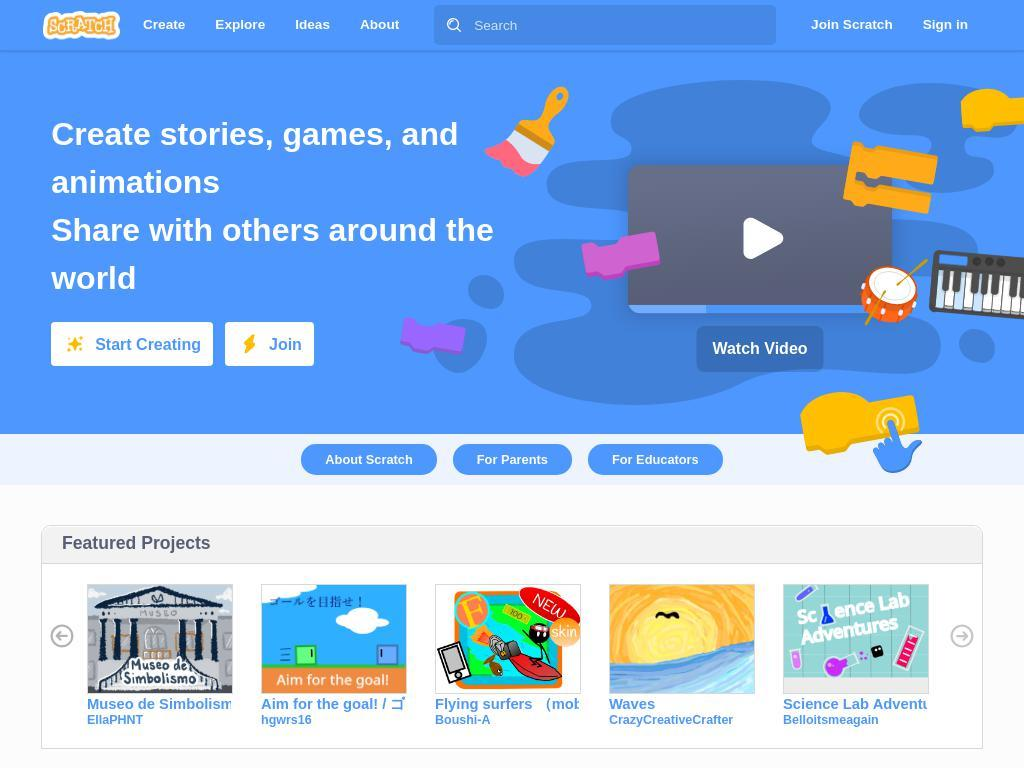button: (87, 584, 231, 694), (261, 584, 405, 694), (435, 584, 579, 694), (609, 584, 753, 694), (783, 584, 927, 694), (293, 434, 446, 485), (579, 434, 731, 485), (51, 322, 213, 366), (444, 434, 580, 485), (796, 0, 908, 50), (200, 0, 281, 50), (224, 322, 314, 366), (907, 0, 983, 50), (128, 0, 201, 50), (344, 0, 415, 50), (280, 0, 345, 50), (87, 696, 231, 713), (261, 696, 405, 713), (435, 696, 579, 713), (609, 696, 753, 713), (783, 696, 927, 713), (42, 616, 82, 656), (942, 616, 982, 656)
field: (434, 5, 777, 45)
heading: (51, 212, 495, 296), (51, 116, 459, 200), (62, 535, 211, 552)
image: (560, 127, 960, 353), (87, 584, 231, 692), (261, 584, 405, 692), (435, 584, 579, 692), (609, 584, 753, 692), (783, 584, 927, 692), (41, 0, 122, 50), (450, 17, 459, 32)
link: (609, 713, 733, 727), (783, 713, 879, 727), (87, 713, 143, 727), (435, 713, 490, 727), (261, 713, 312, 727)
text: (700, 329, 820, 368), (301, 444, 437, 475), (587, 444, 723, 475), (452, 444, 572, 475), (811, 17, 894, 32), (215, 17, 266, 32), (922, 17, 968, 32), (143, 17, 185, 32), (359, 17, 399, 32), (295, 17, 331, 32)
